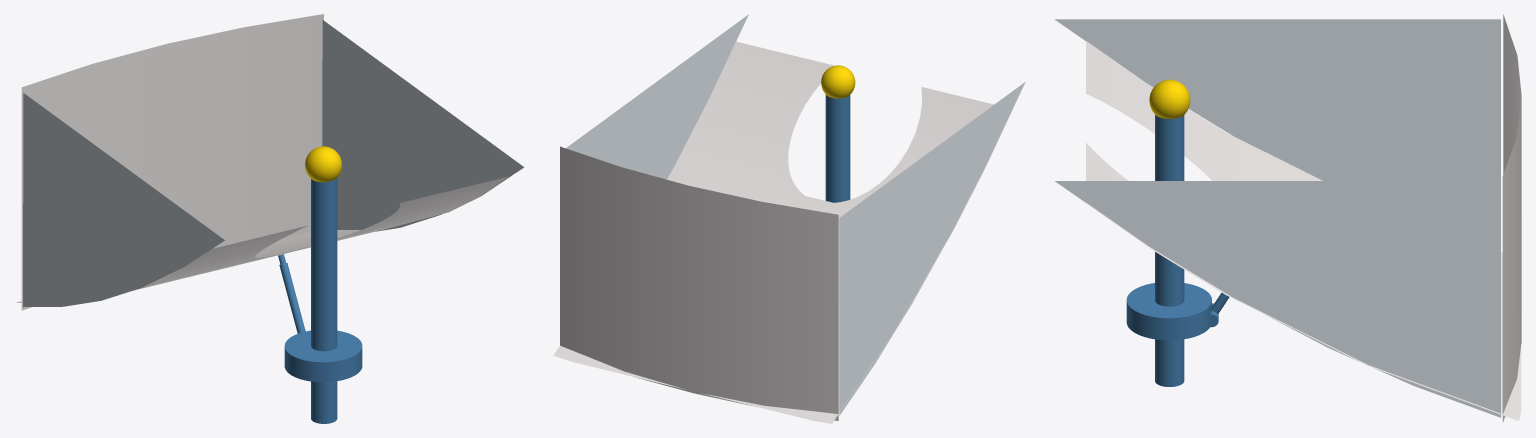
File: Lbox.gltf
3 views of the same model, side by side, from view 1: azimuth 30°, elevation 25°; view 2: azimuth 150°, elevation 25°; view 3: azimuth 270°, elevation 25° (orthographic). The views are drawn at different scales.
Visible parts, largest first — view 1: Object27, Object30, Object48, Object54, Object28, Object52, Object29, Object55; view 2: Object27, Object28, Object30, Object48, Object54, Object29; view 3: Object48, Object30, Object28, Object27, Object54, Object52, Object29.
Part boxes in pixels (box(x1,y1,x2,y2)): Object27: box(21, 14, 323, 310); Object30: box(23, 93, 224, 306); Object48: box(322, 20, 524, 231); Object54: box(311, 178, 337, 423); Object28: box(15, 176, 510, 302); Object52: box(284, 330, 362, 382); Object29: box(305, 146, 341, 182); Object55: box(279, 263, 305, 333); Object27: box(560, 146, 838, 420); Object28: box(553, 41, 1012, 423); Object30: box(839, 82, 1025, 415); Object48: box(566, 14, 748, 179); Object54: box(825, 94, 850, 202); Object29: box(821, 65, 855, 98); Object48: box(1055, 181, 1500, 417); Object30: box(1054, 19, 1500, 180); Object28: box(1086, 41, 1521, 420); Object27: box(1502, 14, 1521, 422); Object54: box(1155, 114, 1184, 386); Object52: box(1126, 283, 1211, 340); Object29: box(1149, 79, 1190, 118).
Size of the model in its own units: 0.3456 by 0.2957 by 0.4192.
